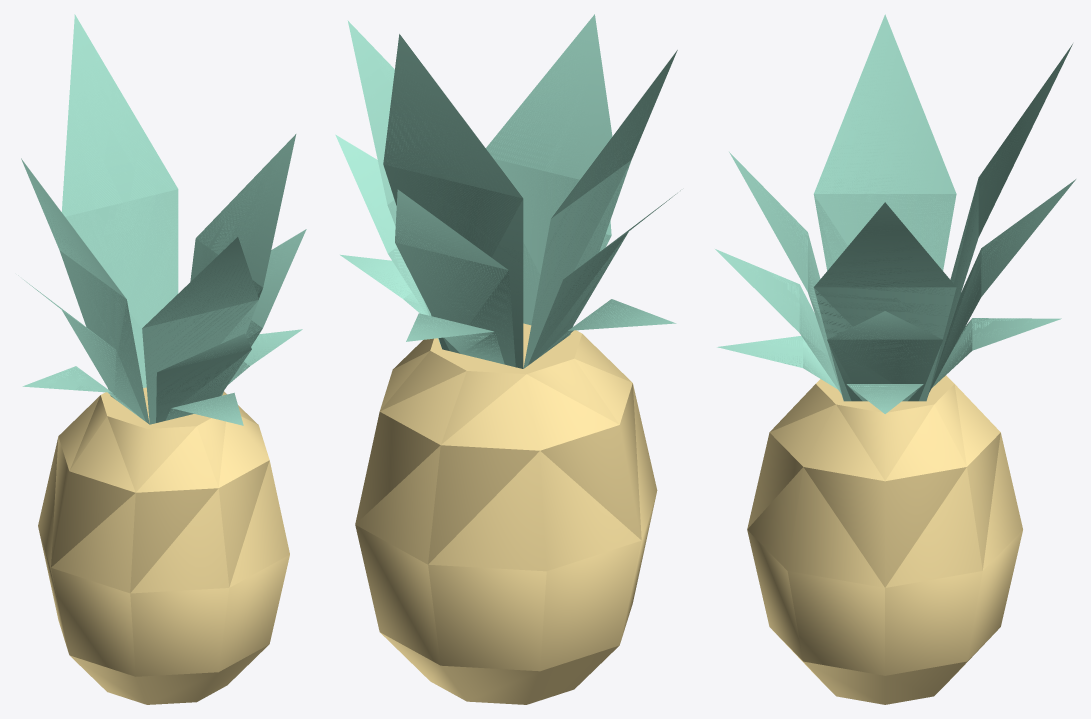
File: PineappleHalf.fbx
The picture shows the model from 3 angles, left to right: view 1: azimuth 30°, elevation 25°; view 2: azimuth 150°, elevation 25°; view 3: azimuth 270°, elevation 25°; orthographic projection. The views are drawn at different scales.
Visible parts, largest first — view 1: pineapple.001, pineapple; view 2: pineapple.001, pineapple; view 3: pineapple.001, pineapple.
Part boxes in pixels (left/top/right/bottom): pineapple.001: left=18, top=14, right=306, bottom=593; pineapple: left=38, top=528, right=289, bottom=704; pineapple.001: left=335, top=14, right=680, bottom=571; pineapple: left=355, top=492, right=656, bottom=704; pineapple.001: left=715, top=14, right=1075, bottom=587; pineapple: left=747, top=530, right=1022, bottom=704.
Bounding box in the file's own units: 24.12 × 47.16 × 24.48.
